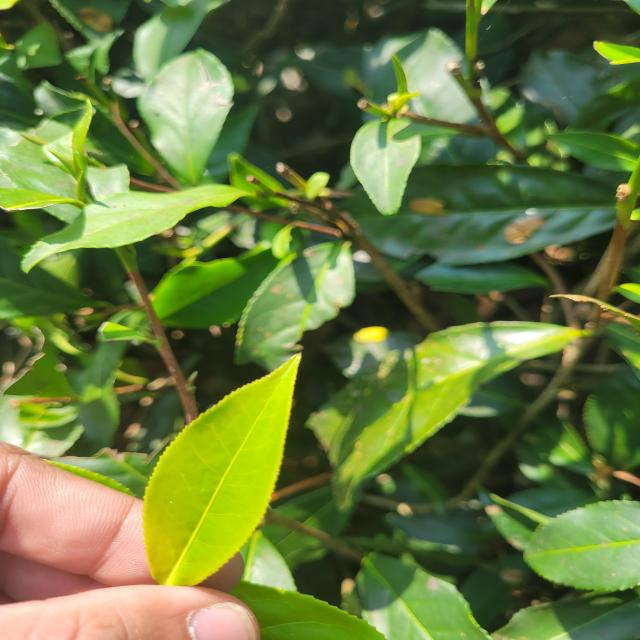Catagory A 1-2 days: (128, 344, 330, 590)
